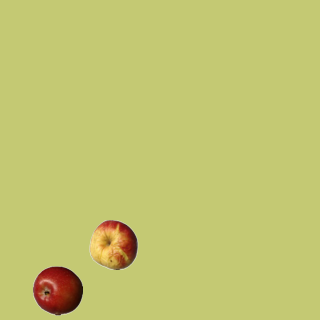Apple Braeburn: (32, 265, 82, 315)
Apple Red Yellow 1: (88, 219, 138, 269)
